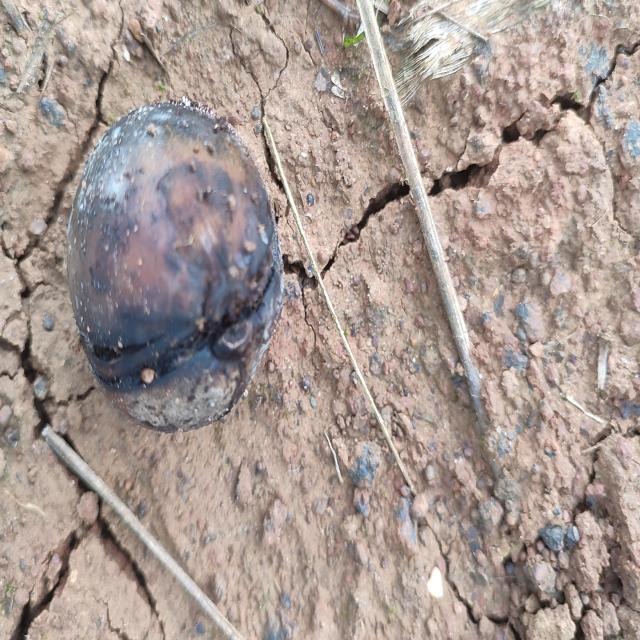damaged: (67, 101, 284, 432)
